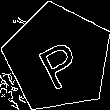P_NW: (30, 27, 86, 89)
